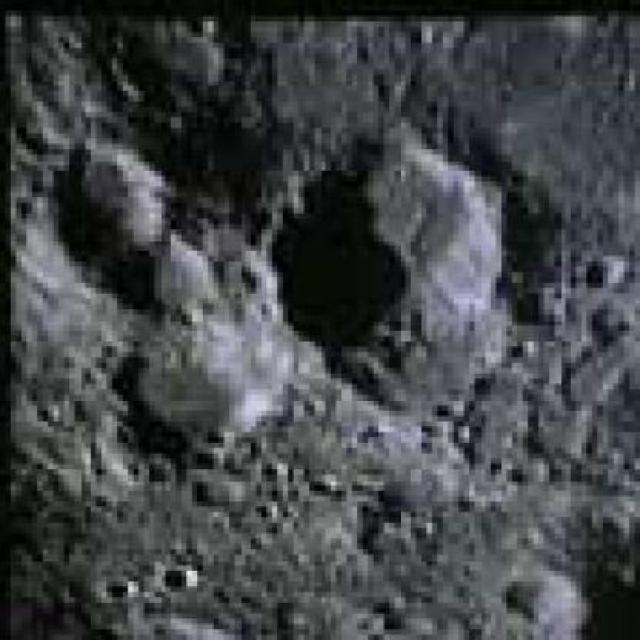crater: (266, 127, 494, 418), (66, 145, 223, 340), (106, 303, 274, 468)
